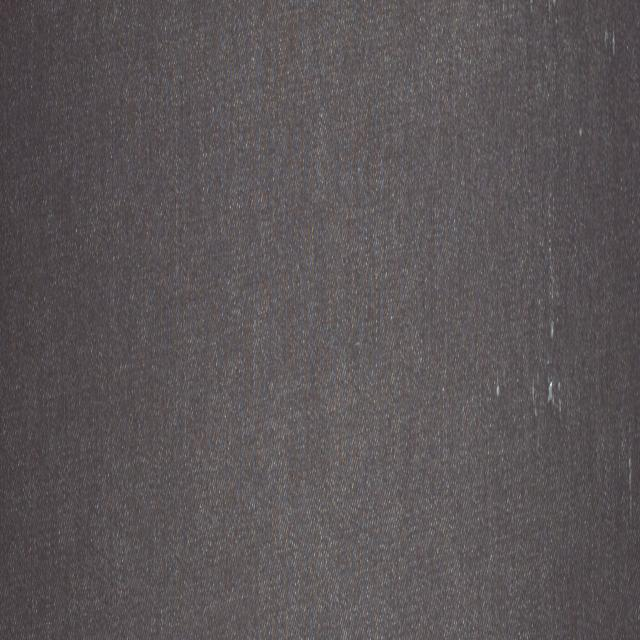defect: (496, 259, 568, 428)
